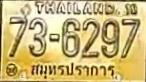2: (82, 19, 100, 58)
3: (28, 17, 47, 56)
6: (61, 18, 80, 56)
7: (120, 18, 140, 58), (8, 16, 27, 56)
9: (100, 18, 119, 57)
SPK: (29, 61, 117, 79)
